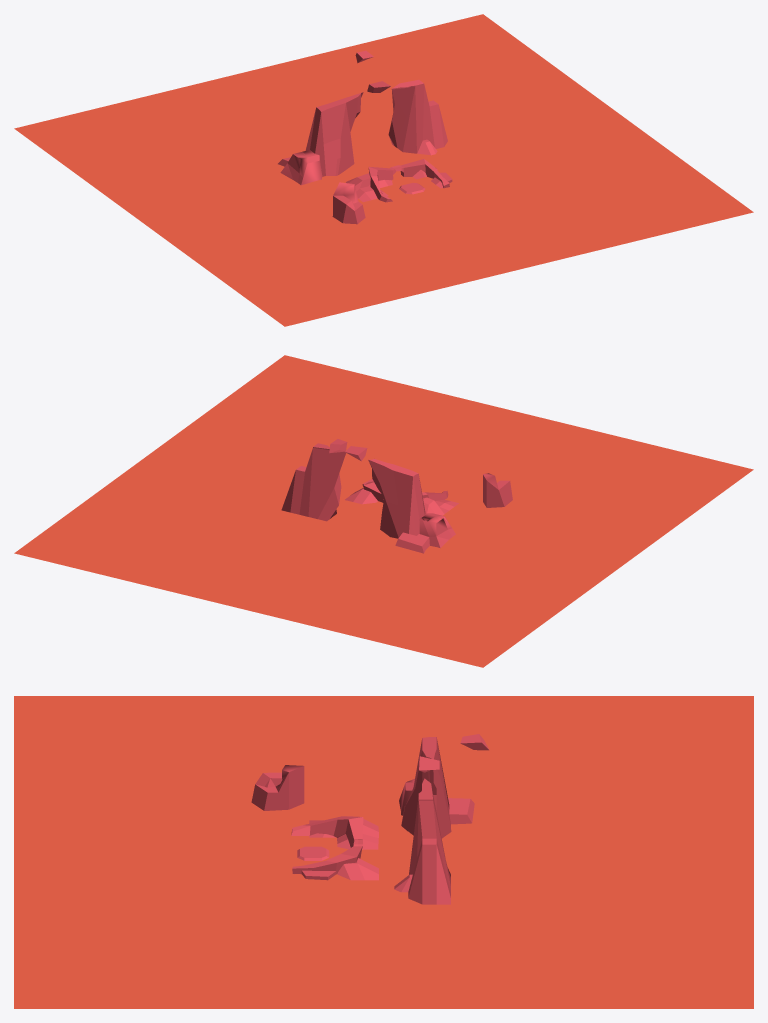
The model's file is hub.glb.
3 renders of one model, top to bottom at view 1: azimuth 30°, elevation 25°; view 2: azimuth 150°, elevation 25°; view 3: azimuth 270°, elevation 25°, orthographic. The views are drawn at different scales.
Visible parts, largest first — view 1: Plane, Main, Float; view 2: Plane, Main, Float; view 3: Plane, Main, Float.
Part boxes in pixels (left/top/right/bottom): Plane: left=14, top=14, right=753, bottom=326; Main: left=278, top=79, right=452, bottom=202; Float: left=332, top=50, right=390, bottom=224; Plane: left=14, top=355, right=753, bottom=667; Main: left=281, top=443, right=458, bottom=553; Float: left=329, top=439, right=512, bottom=507; Plane: left=14, top=696, right=753, bottom=1008; Main: left=291, top=737, right=474, bottom=904; Float: left=251, top=734, right=488, bottom=810.
Bounding box in the file's own units: 76.71 × 17.91 × 76.71.
